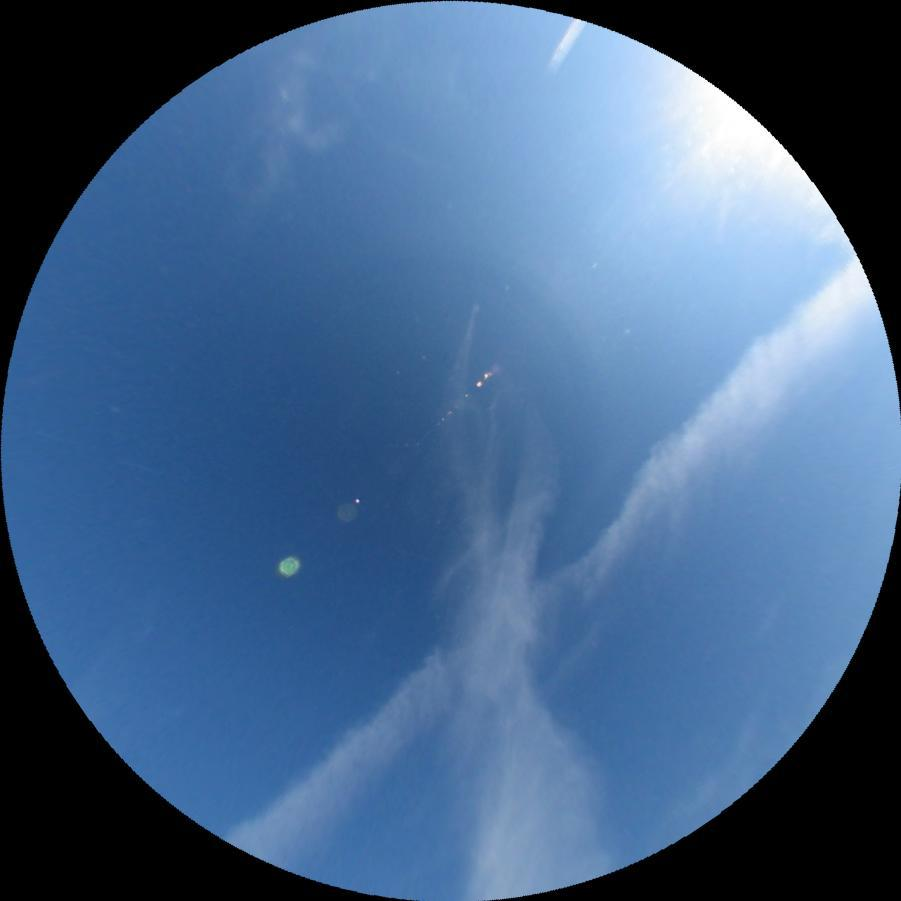contrail young: (543, 14, 586, 74)
